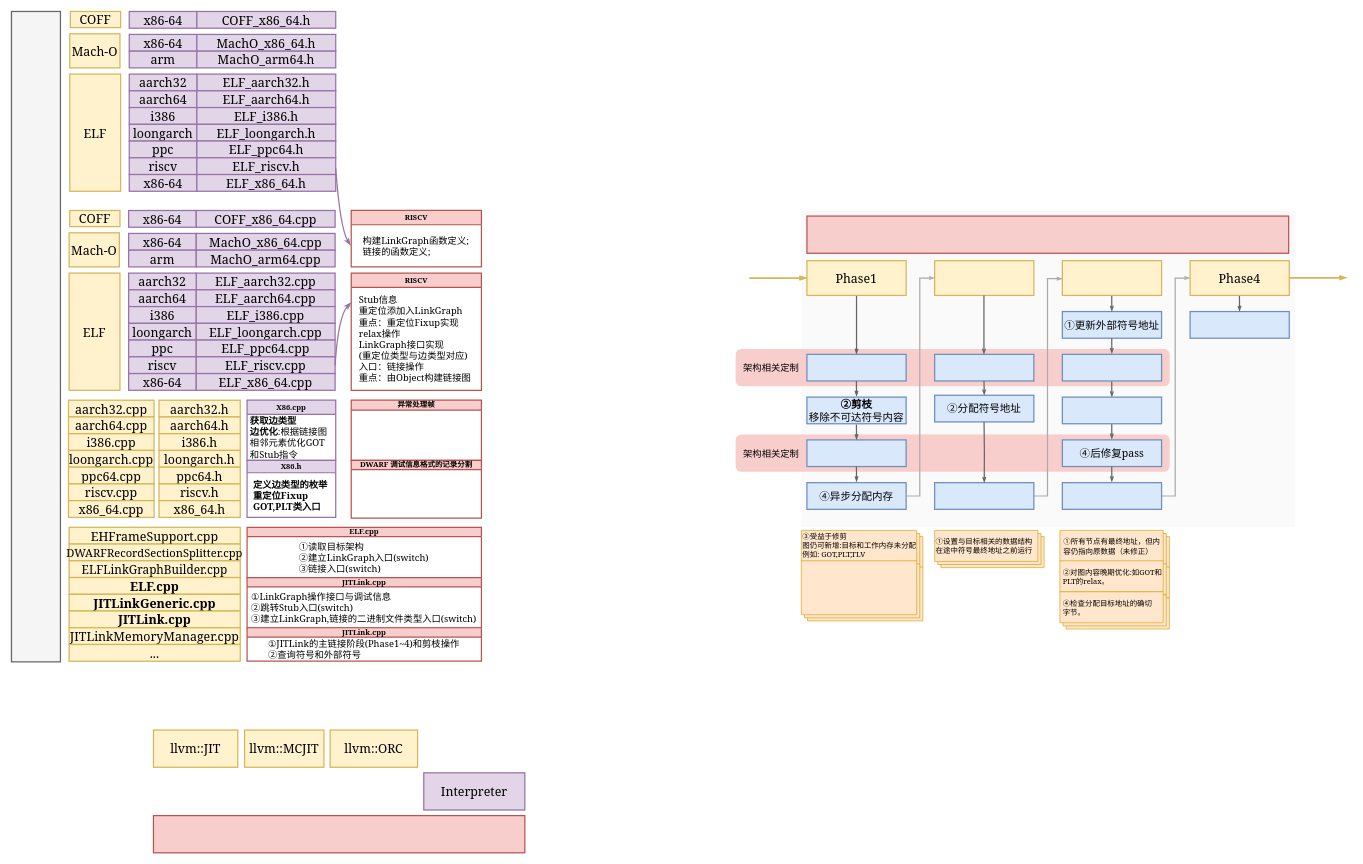
The diagram is 1363 pixels wide and 864 high, and some of its shapes have lost their labels. The centre of each missing label's shape, as x and y in pixels:
"Execution Engine" belongs at pixel 339 834.
"Generic Link Algorithm" belongs at pixel 1047 234.
"LLVM JITLink" belongs at pixel 36 336.
"Phase2" belongs at pixel 984 278.
"Phase3" belongs at pixel 1111 278.
"①后分配pass" belongs at pixel 984 367.
"①通知上下文 图已发出" belongs at pixel 1239 325.
"①预修剪pass" belongs at pixel 856 367.
"②预修复pass" belongs at pixel 1111 367.
"③修剪后pass" belongs at pixel 856 453.
"③修复Fixup： 内容移植工作内存进行fix" belongs at pixel 1111 410.
"③外部符号异步解析" belongs at pixel 984 496.
"④为图分配工作和目标内存:更新图 中所有定义的节点的地址为它们分 配的目标地址；此步骤只更新在此 图中定义的节点的地址。外部符号 仍将有空地址。" belongs at pixel 862 590.
"⑤异步最终化内存" belongs at pixel 1111 496.
